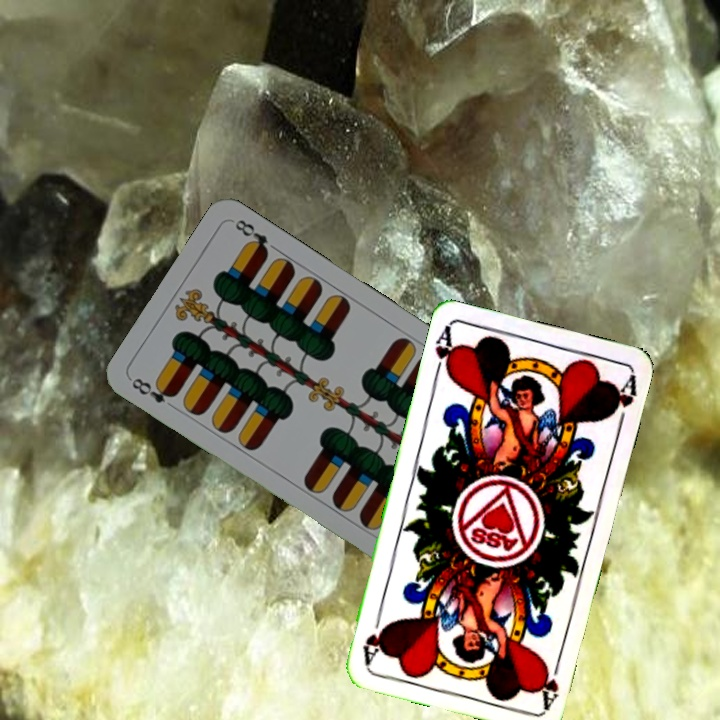E8: (127, 373, 180, 406)
HA: (429, 323, 459, 382), (536, 651, 565, 710)
